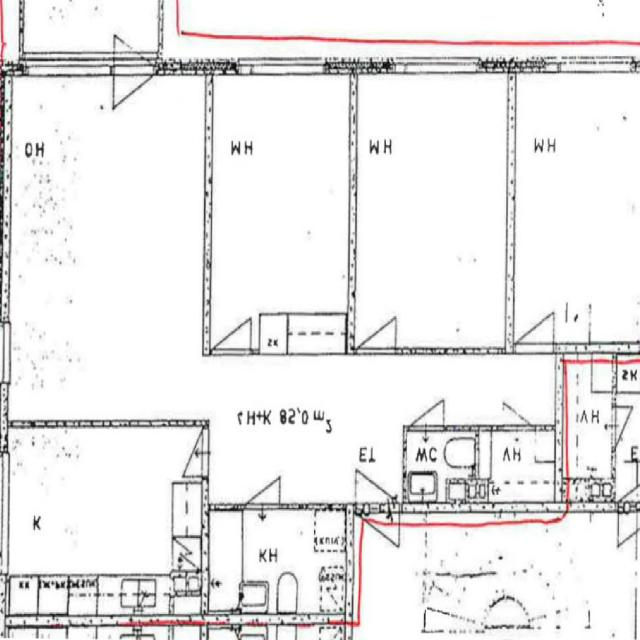door: (357, 440, 401, 512), (357, 502, 401, 574), (114, 57, 155, 130), (114, 1, 155, 73), (516, 291, 554, 354), (212, 294, 250, 354), (359, 296, 396, 354), (166, 428, 208, 477), (247, 455, 280, 508), (411, 379, 444, 431), (504, 386, 533, 430)
